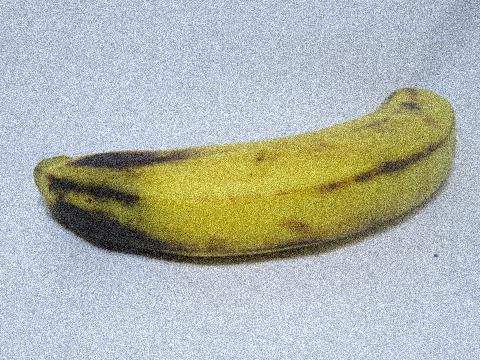ripe: (21, 67, 468, 285)
